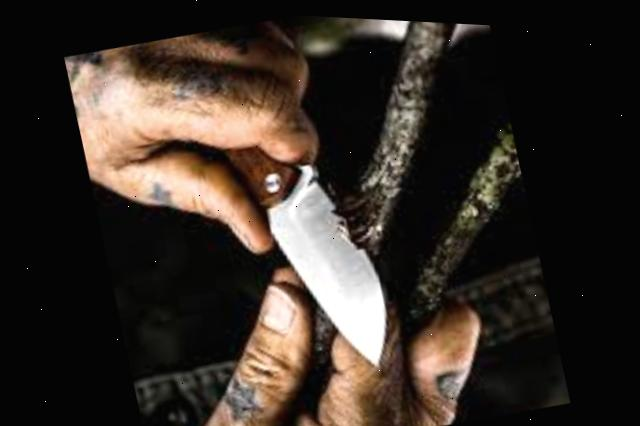pocket-knife: (201, 73, 411, 396)
